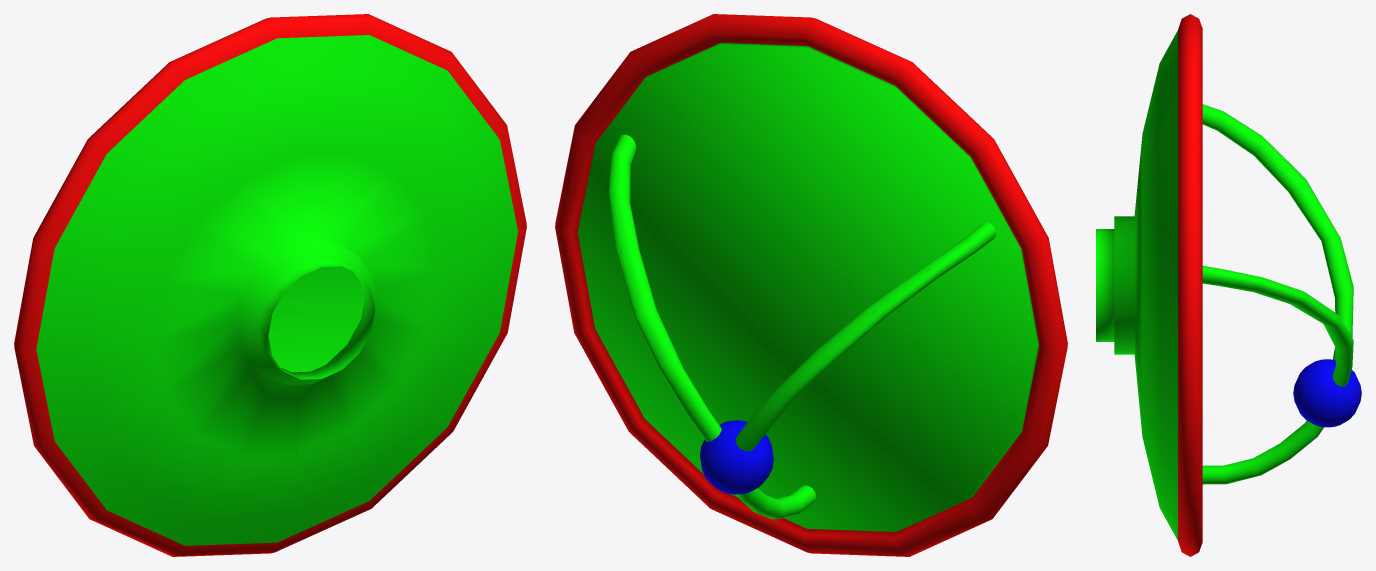
The model's file is Spinner.fbx.
The picture shows the model from 3 angles, left to right: view 1: azimuth 30°, elevation 25°; view 2: azimuth 150°, elevation 25°; view 3: azimuth 270°, elevation 25°; orthographic projection. The views are drawn at different scales.
Visible parts, largest first — view 1: Circle; view 2: Circle; view 3: Circle.
Boxes of the visible parts, x1,y1,x2,y2 form: Circle: [14, 14, 526, 556]; Circle: [555, 14, 1067, 556]; Circle: [1096, 14, 1361, 556].
Size of the model in its own units: 958 by 958 by 469.
